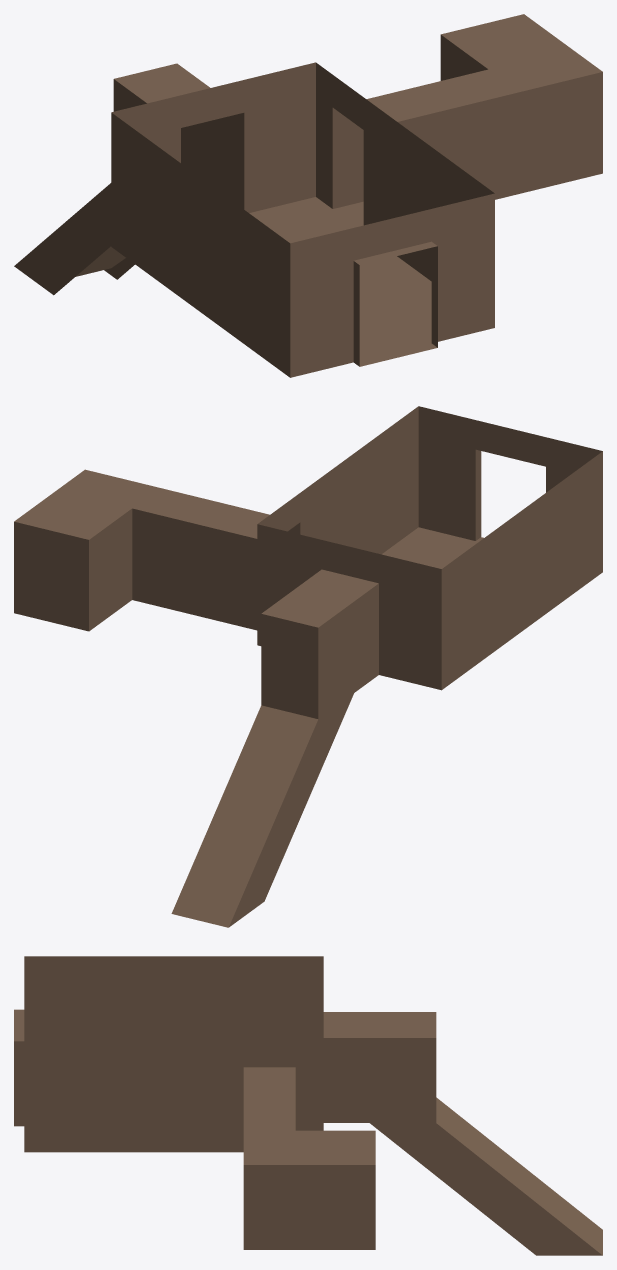
File: Doctors Office.fbx
3 renders of one model, top to bottom at view 1: azimuth 30°, elevation 25°; view 2: azimuth 150°, elevation 25°; view 3: azimuth 270°, elevation 25°, orthographic. The views are drawn at different scales.
Visible parts, largest first — view 1: rect5676.013, rect5676.011; view 2: rect5676.013, rect5676.011; view 3: rect5676.013.
Part boxes in pixels (x1,y1,x2,y2): rect5676.013: (14, 14, 602, 377); rect5676.011: (75, 197, 437, 366); rect5676.013: (14, 406, 602, 927); rect5676.011: (382, 527, 483, 568); rect5676.013: (14, 956, 602, 1255).
Size of the model in its own units: 1053 by 664 by 1446.
